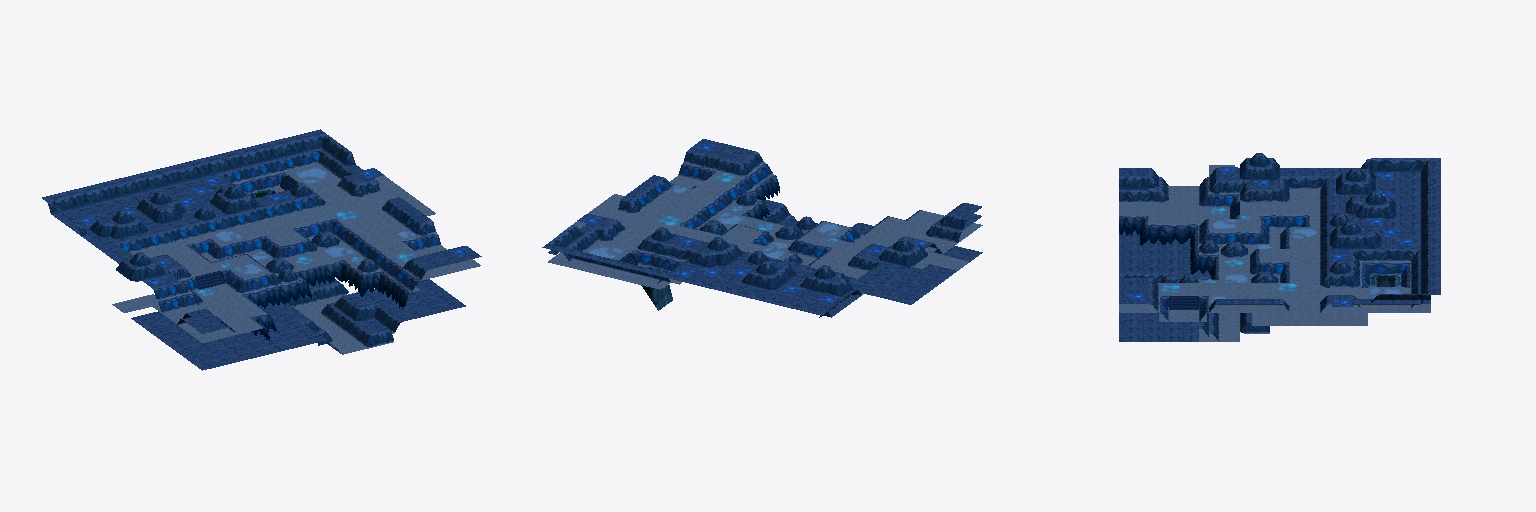
3 views of the same model, side by side, from view 1: azimuth 30°, elevation 25°; view 2: azimuth 150°, elevation 25°; view 3: azimuth 270°, elevation 25° (orthographic).
Parts seen in each view (by area): view 1: polygon1, polygon0, polygon4, polygon8, polygon6, polygon7, polygon12, polygon14, polygon16, polygon5, polygon15, polygon3 (+1 smaller); view 2: polygon0, polygon1, polygon7, polygon4, polygon8, polygon14, polygon16, polygon6, polygon5, polygon12, polygon15; view 3: polygon0, polygon1, polygon4, polygon7, polygon8, polygon12, polygon6, polygon16, polygon14, polygon5, polygon15, polygon3 (+1 smaller).
Part boxes in pixels (x1,y1,x2,y2): polygon1: (42,129,481,370); polygon0: (112,163,480,354); polygon4: (46,133,402,345); polygon8: (157,172,441,342); polygon6: (115,148,421,300); polygon7: (114,149,463,353); polygon12: (241,260,410,341); polygon14: (209,165,417,277); polygon16: (76,168,475,285); polygon5: (89,184,364,331); polygon15: (196,209,419,296); polygon3: (192,240,348,314); polygon0: (548,171,982,289); polygon1: (542,139,982,316); polygon7: (564,150,961,283); polygon4: (548,203,967,317); polygon8: (630,163,942,271); polygon14: (585,185,847,259); polygon16: (577,141,930,303); polygon6: (564,178,936,282); polygon5: (688,245,927,295); polygon12: (741,174,921,234); polygon15: (654,171,889,246); polygon0: (1119,165,1430,341); polygon1: (1119,158,1440,341); polygon4: (1119,153,1430,336); polygon7: (1119,176,1420,340); polygon8: (1159,177,1410,321); polygon12: (1119,216,1218,282); polygon6: (1209,168,1420,308); polygon16: (1126,167,1414,306); polygon14: (1210,219,1404,302); polygon5: (1162,158,1395,282); polygon15: (1160,208,1298,292); polygon3: (1199,189,1360,333).
Size of the model in its own units: 9.56 by 2.25 by 8.
17 materials, 17 textured.